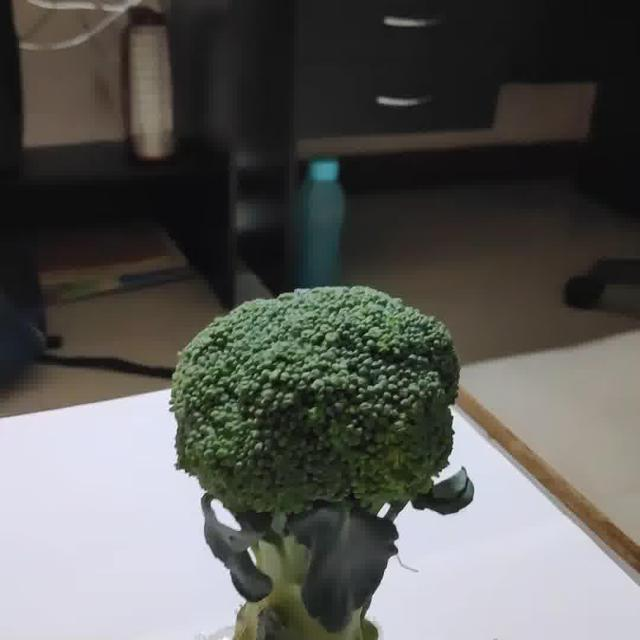Broccoli: (169, 287, 473, 639)
